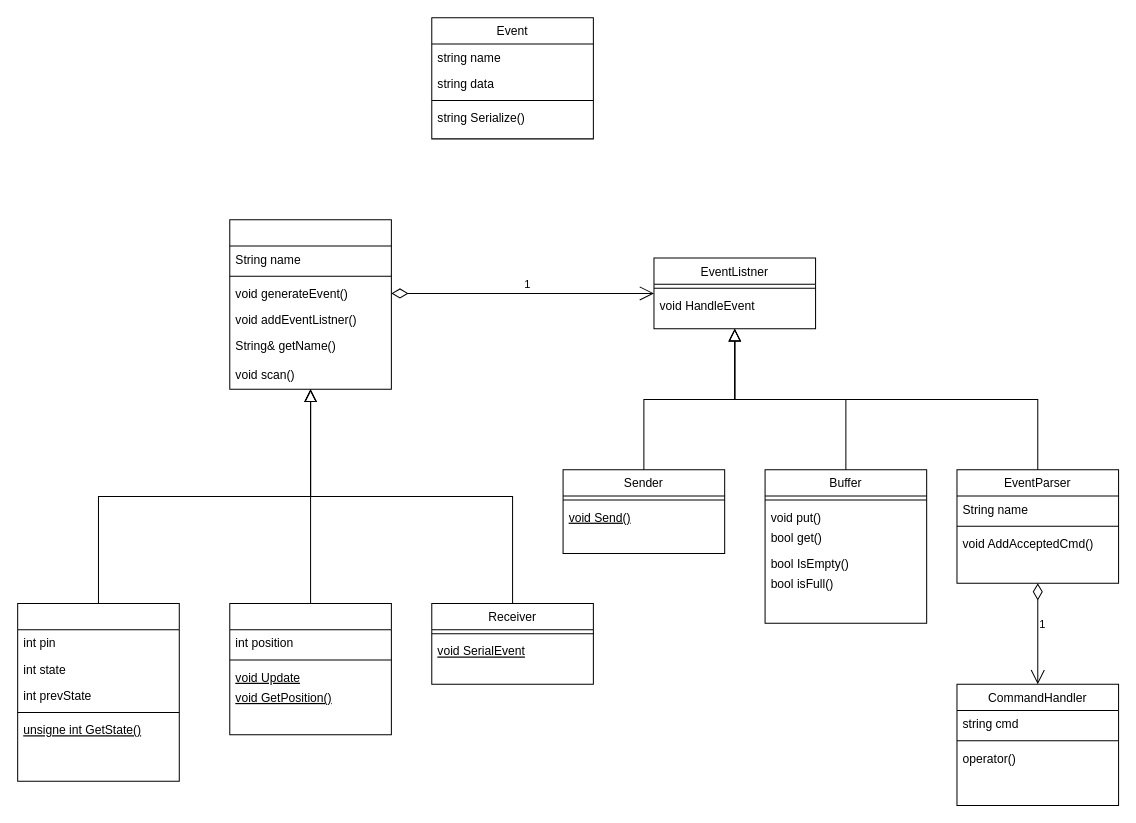
The diagram is 1136 pixels wide and 823 high, and some of its shapes have lost their labels. Here are the shapes that lost their labels. From the top down, the box of each, then its label:
(229, 219, 391, 389): EventGenerator
(229, 602, 391, 735): Encoder
(17, 602, 179, 781): Button
